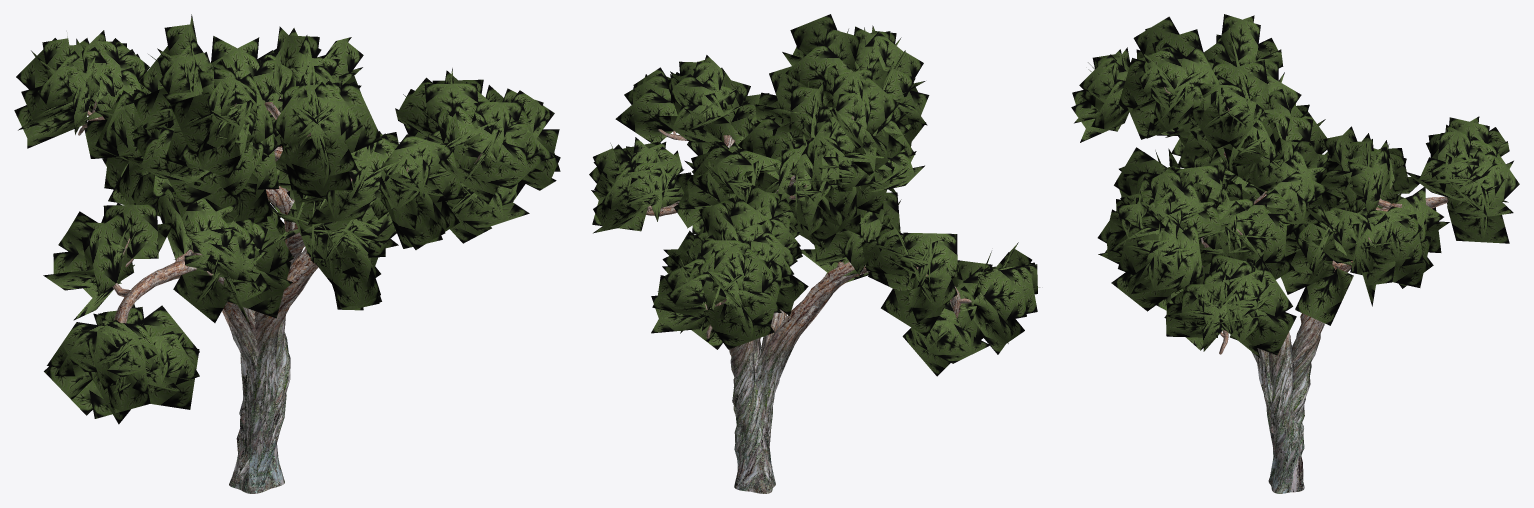
File: Tree_03_v2.obj
The picture shows the model from 3 angles, left to right: view 1: azimuth 30°, elevation 25°; view 2: azimuth 150°, elevation 25°; view 3: azimuth 270°, elevation 25°; orthographic projection. The views are drawn at different scales.
Visible parts, largest first — view 1: bark08, pine branch_t; view 2: bark08, pine branch_t; view 3: bark08, pine branch_t.
Part boxes in pixels (x1,y1,x2,y2): bark08: (14,14,560,424); pine branch_t: (78,97,482,493); bark08: (589,14,1039,376); pine branch_t: (646,116,971,493); bark08: (1071,14,1519,358); pine branch_t: (1164,87,1474,493).
Bounding box in the file's own units: 254 × 246 × 232.
2 materials, 2 textured.
